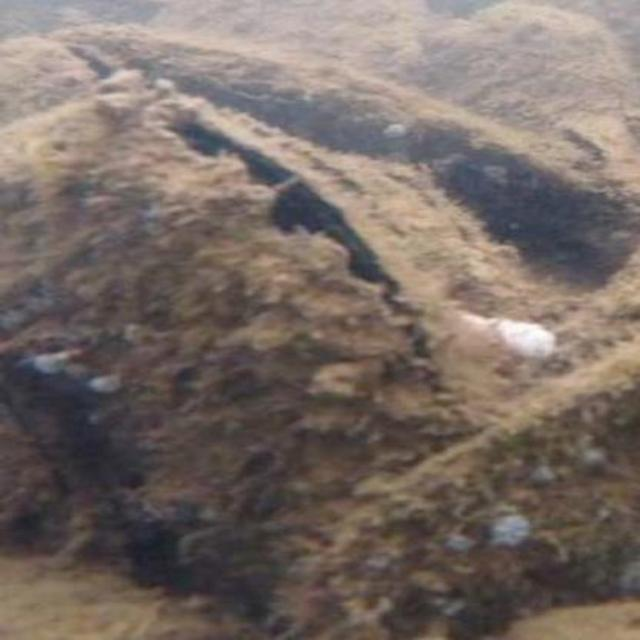Oyster-Closed: (60, 23, 638, 261), (262, 349, 638, 638), (152, 0, 447, 97), (436, 6, 631, 136), (0, 35, 154, 125)
Oyster-Open: (0, 92, 544, 615)
